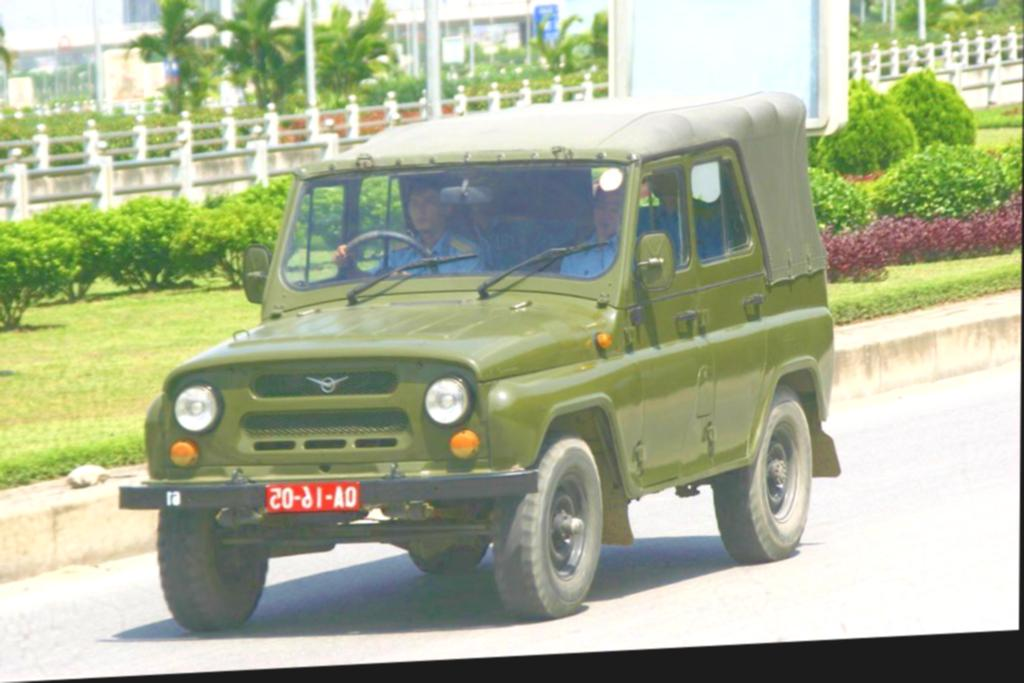License_Plate: (262, 478, 359, 516)
